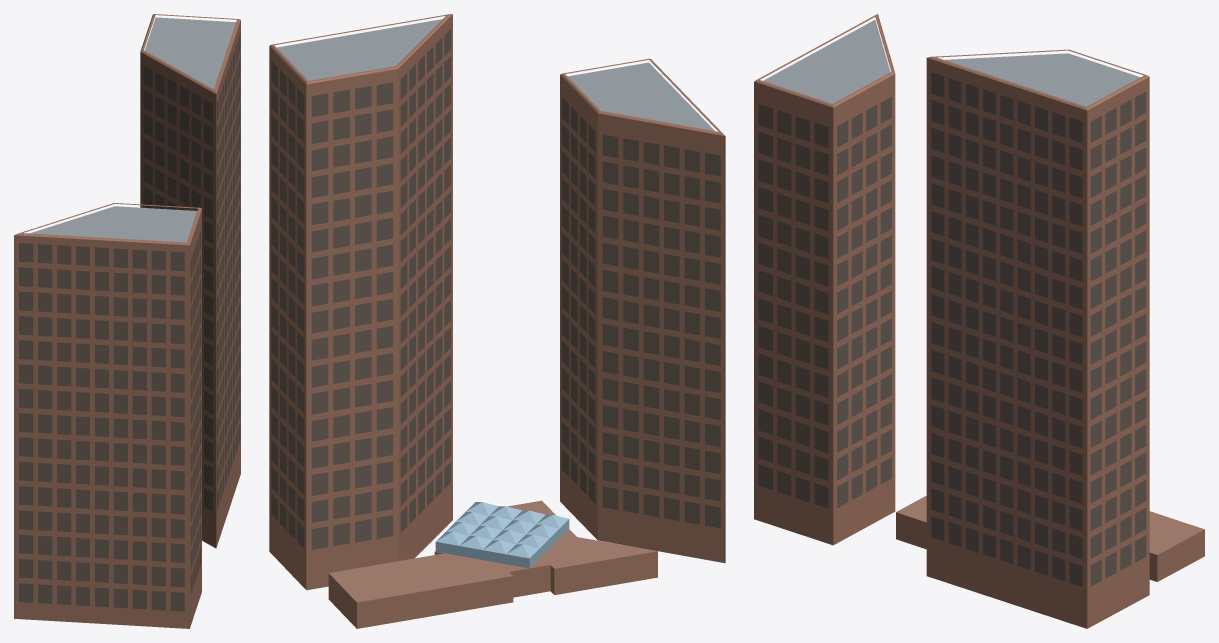
Rendered from detail.glb.
The picture shows the model from 3 angles, left to right: view 1: azimuth 30°, elevation 25°; view 2: azimuth 150°, elevation 25°; view 3: azimuth 270°, elevation 25°; orthographic projection. The views are drawn at different scales.
Visible parts, largest first — view 1: wells-fargo-center; view 2: wells-fargo-center; view 3: wells-fargo-center.
Part boxes in pixels (box(x1,y1,x2,y2)): wells-fargo-center: box(14, 14, 240, 628); wells-fargo-center: box(269, 14, 725, 628); wells-fargo-center: box(754, 14, 1204, 628).
Size of the model in its own units: 169 by 230 by 181.
